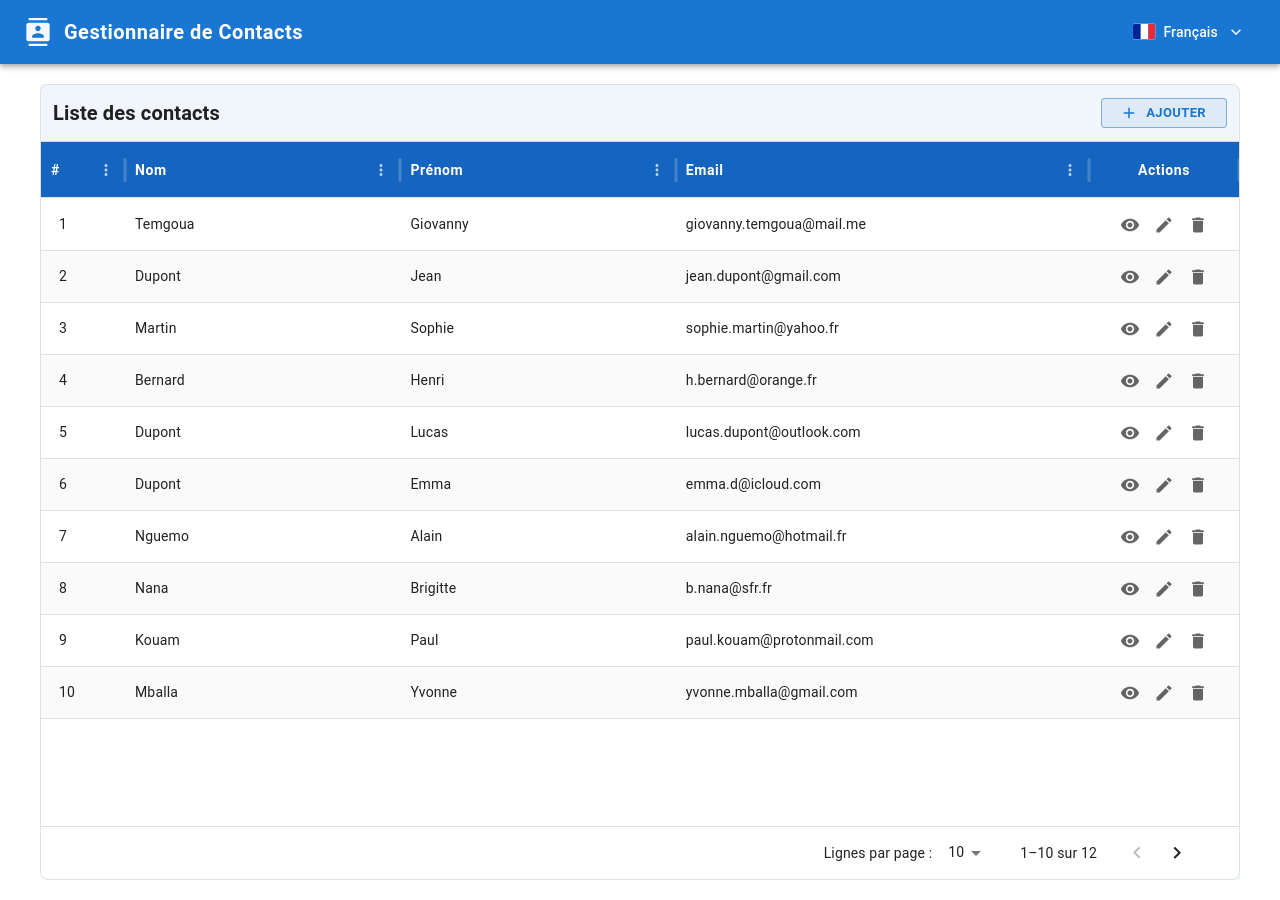
Scenario: App › should show linked delete warning when contact is referenced as parent
Step 1. Click the button named "delete-2" → click(1198, 276), box [1183,262,1213,292]
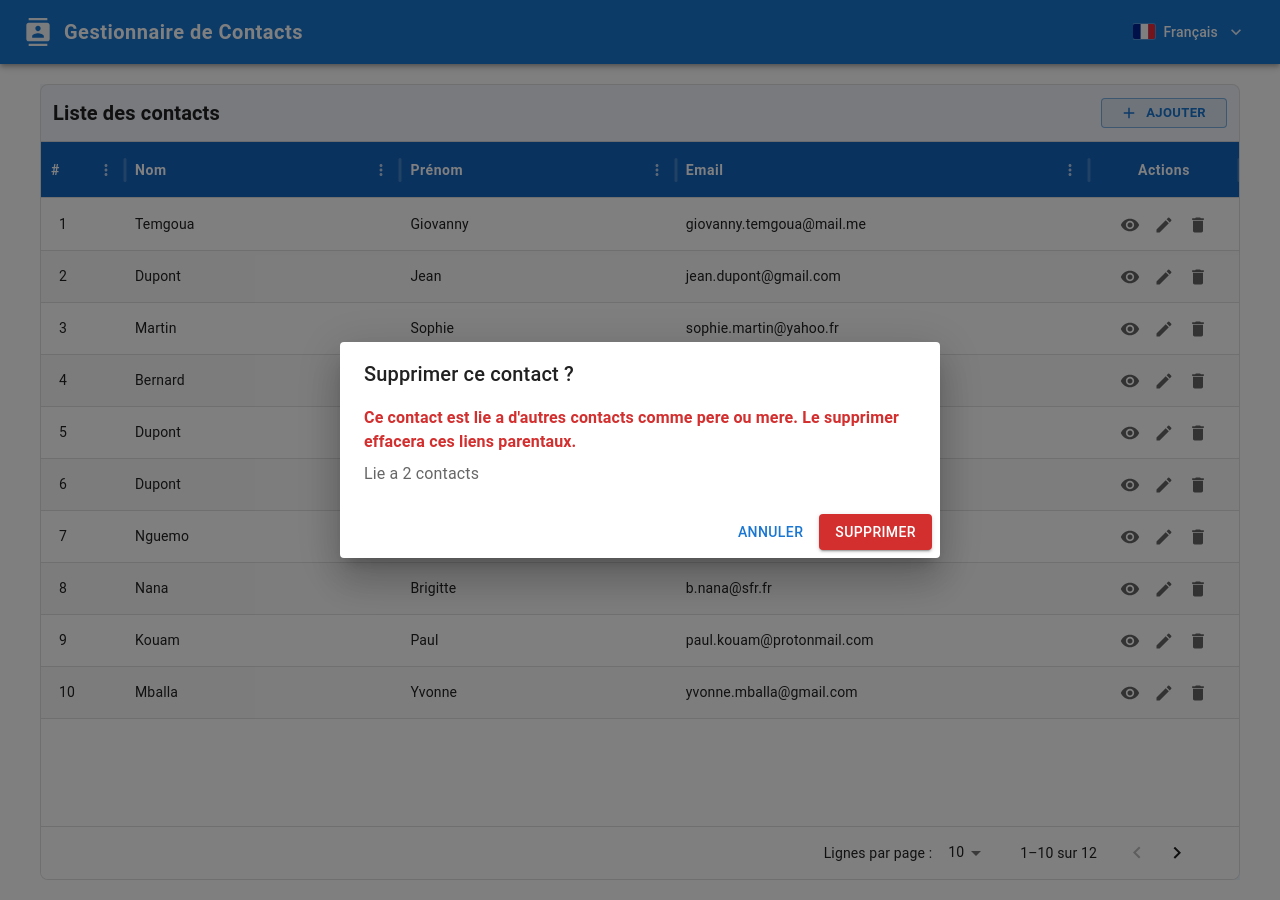
Expected: the text "lie a d'autres contacts comme pere ou mere" is shown, [364,408,899,451]
Expected: the text "Lie a 2 contacts" is shown, [364,464,479,483]
